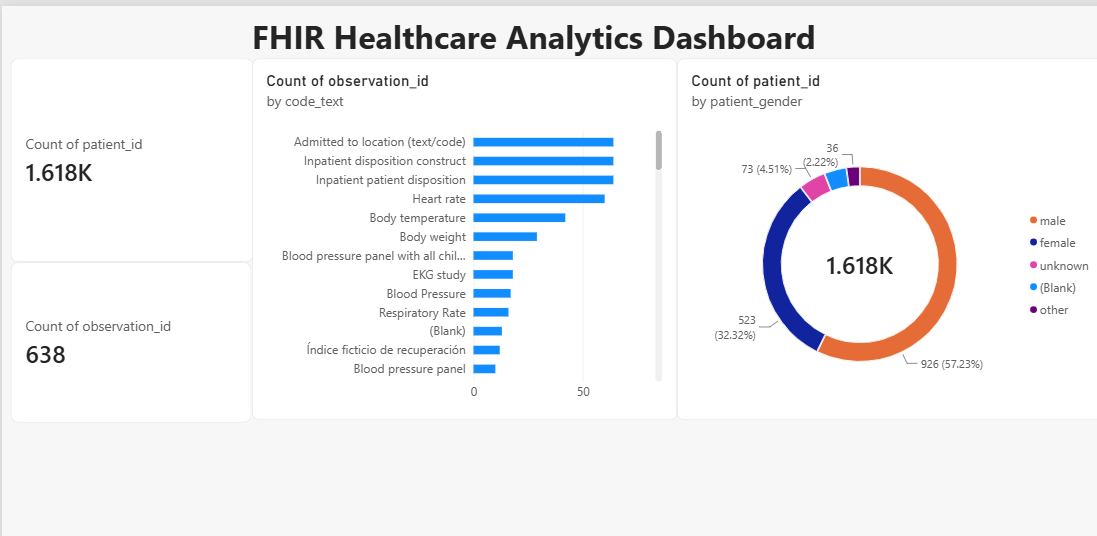

The page's visual inventory and layout, read from the dashboard file:
{"tool":"powerbi","page":{"name":"FHIR Overview","canvas":[1920,1080],"ordinal":0},"visuals":[{"type":"cardVisual","fields":{"Data":["Count(gold_patient_current_pbi.patient_id)"]},"box":[10.1,60.9,281.2,236.2],"z":0},{"type":"cardVisual","fields":{"Data":["Count(gold_observation_reporting_pbi_v2.observation_id)"]},"box":[10.1,297.1,279.7,187],"z":1},{"type":"clusteredBarChart","fields":{"Category":["gold_observation_reporting_pbi_v2.code_text"],"Y":["CountNonNull(gold_observation_reporting_pbi_v2.observation_id)"]},"box":[289.9,60.9,492.8,418.8],"z":2},{"type":"donutChart","fields":{"Category":["gold_patient_current_pbi.patient_gender"],"Y":["Count(gold_patient_current_pbi.patient_id)"]},"box":[782.6,60.9,504.3,418.8],"z":3},{"type":"textbox","box":[1318,10,504,419],"z":4},{"type":"textbox","box":[10.1,579.7,150.7,127.5],"z":5},{"type":"textbox","box":[289.9,10.1,669.6,143.5],"z":10}]}

Visuals, with their boxes on the page's 1920x1080 design canvas (x1, y1, x2, y2). These are canvas units, not pixel positions in the 1097x536 screenshot, which may show the page scaled, cropped or inside an application window:
cardVisual - Count(gold_patient_current_pbi.patient_id): <region>10, 61, 291, 297</region>
cardVisual - Count(gold_observation_reporting_pbi_v2.observation_id): <region>10, 297, 290, 484</region>
clusteredBarChart - gold_observation_reporting_pbi_v2.code_text x CountNonNull(gold_observation_reporting_pbi_v2.observation_id): <region>290, 61, 783, 480</region>
donutChart - gold_patient_current_pbi.patient_gender x Count(gold_patient_current_pbi.patient_id): <region>783, 61, 1287, 480</region>
textbox: <region>1318, 10, 1822, 429</region>
textbox: <region>10, 580, 161, 707</region>
textbox: <region>290, 10, 960, 154</region>
